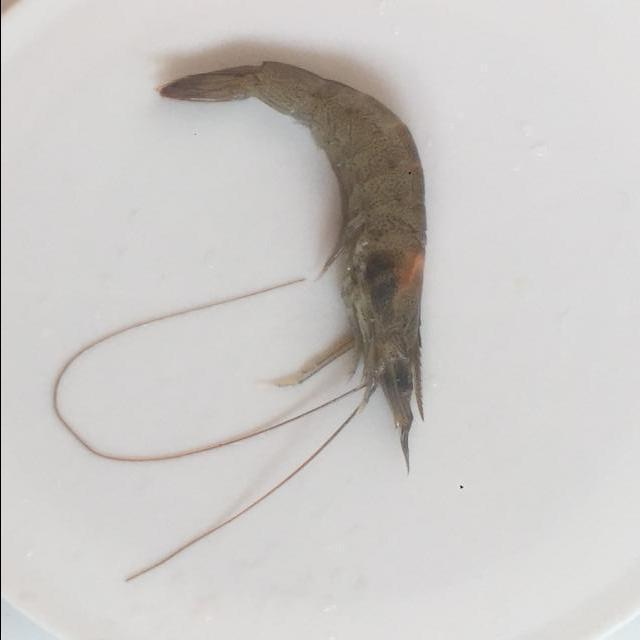shrimp: (159, 61, 426, 464)
